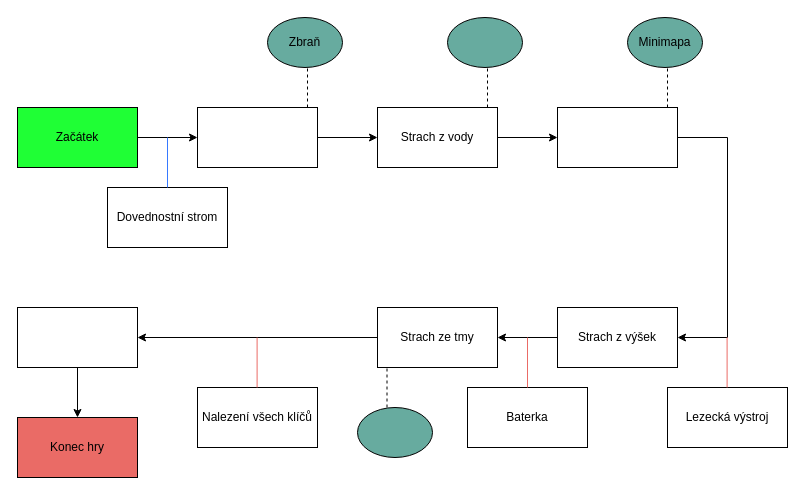
The diagram is 805 pixels wide and 495 high, and some of its shapes have lost their labels. Each missing label, with the centre of its shape:
Léčivé lektvary: point (484, 42)
Neomezená baterka: point (394, 432)
Strach z neznáma: point (617, 137)
Strach z ostých předmětů: point (257, 137)
Strach ze smrti: point (77, 337)
